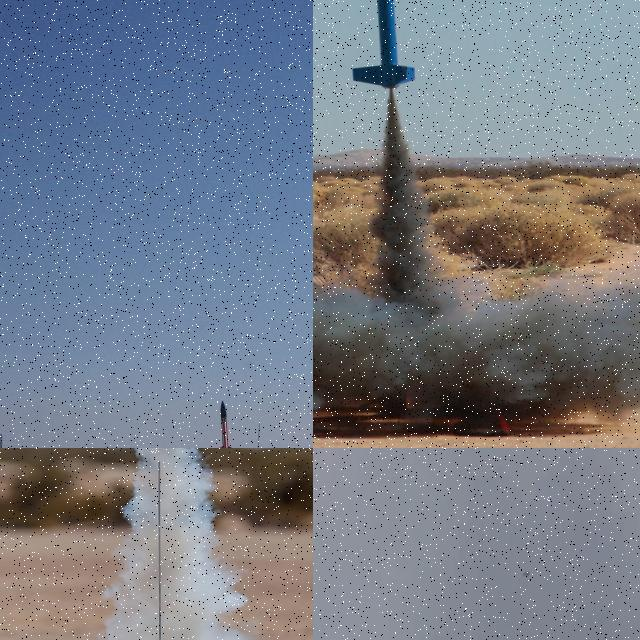Rocket: (351, 0, 417, 90), (216, 400, 234, 448), (522, 572, 530, 576)
